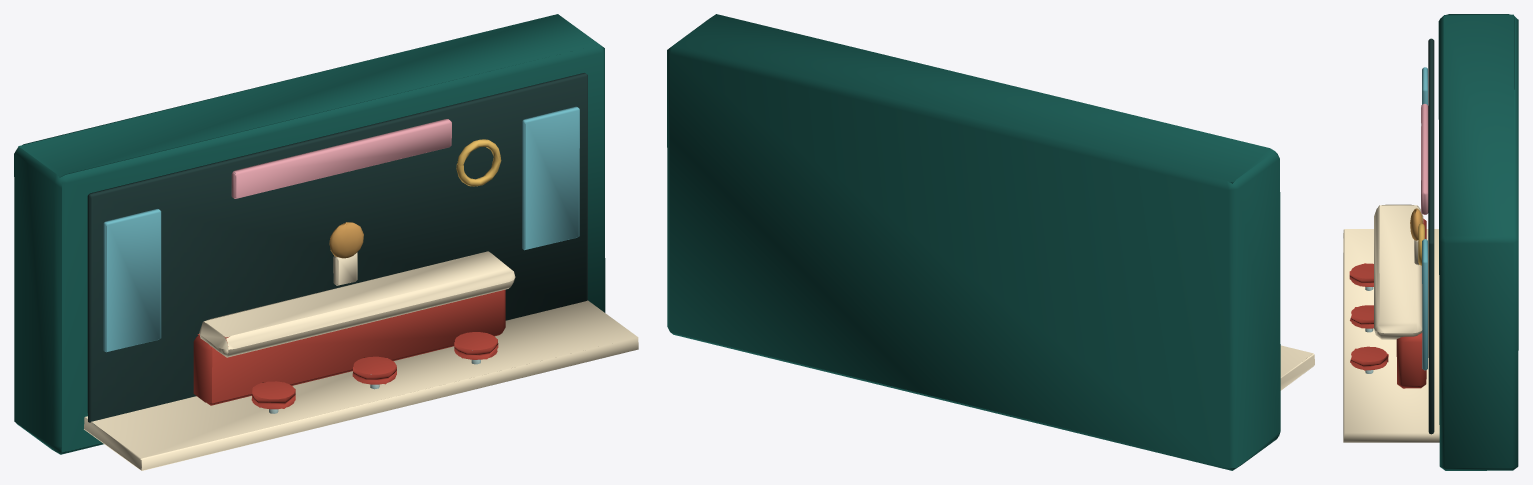
3 renders of one model, left to right at view 1: azimuth 30°, elevation 25°; view 2: azimuth 150°, elevation 25°; view 3: azimuth 270°, elevation 25°, orthographic. The views are drawn at different scales.
Visible parts, largest first — view 1: Midnight interior, Diorama shadow box, Tiny diner floor, Mini counter front, Neon window, After hours sign, Tiny cook, Clock, Tiny apron; view 2: Diorama shadow box, Tiny diner floor; view 3: Diorama shadow box, Tiny diner floor, Mini counter front, Midnight interior, Neon window, After hours sign, Tiny cook, Clock.
Boxes of the visible parts, bbox=[...] form: Midnight interior: bbox=[87, 73, 587, 422]; Diorama shadow box: bbox=[14, 14, 605, 454]; Tiny diner floor: bbox=[84, 251, 638, 470]; Mini counter front: bbox=[193, 289, 505, 409]; Neon window: bbox=[103, 106, 579, 352]; After hours sign: bbox=[231, 119, 451, 198]; Tiny cook: bbox=[329, 222, 363, 258]; Clock: bbox=[456, 139, 501, 186]; Tiny apron: bbox=[333, 252, 357, 285]; Diorama shadow box: bbox=[667, 14, 1280, 470]; Tiny diner floor: bbox=[1280, 345, 1314, 390]; Diorama shadow box: bbox=[1438, 14, 1518, 470]; Tiny diner floor: bbox=[1343, 204, 1439, 442]; Mini counter front: bbox=[1349, 218, 1426, 388]; Midnight interior: bbox=[1428, 38, 1434, 434]; Neon window: bbox=[1422, 67, 1427, 370]; After hours sign: bbox=[1421, 104, 1428, 214]; Tiny cook: bbox=[1410, 208, 1423, 240]; Clock: bbox=[1418, 223, 1424, 265].
Size of the model in its own units: 1.63 by 0.7935 by 0.5353.
